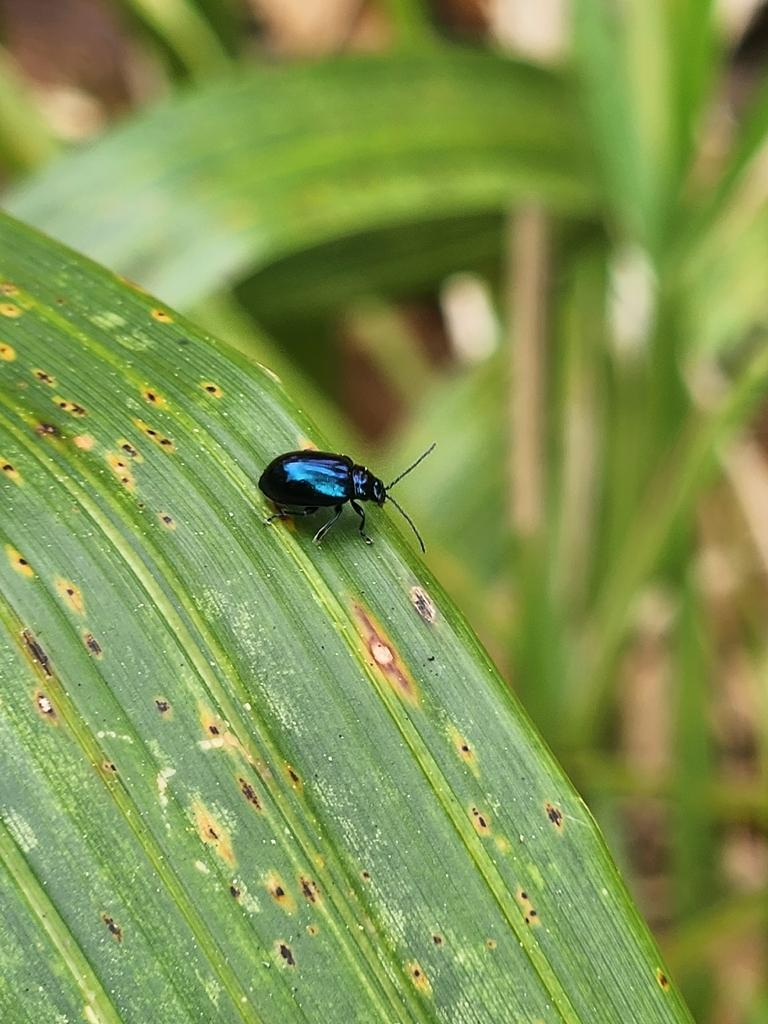flea_beetle: (223, 415, 462, 574)
